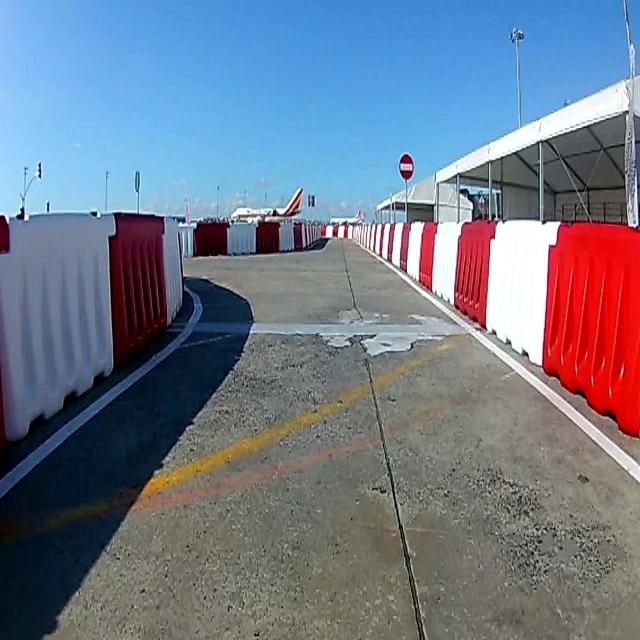girisyok: (398, 151, 416, 181)
